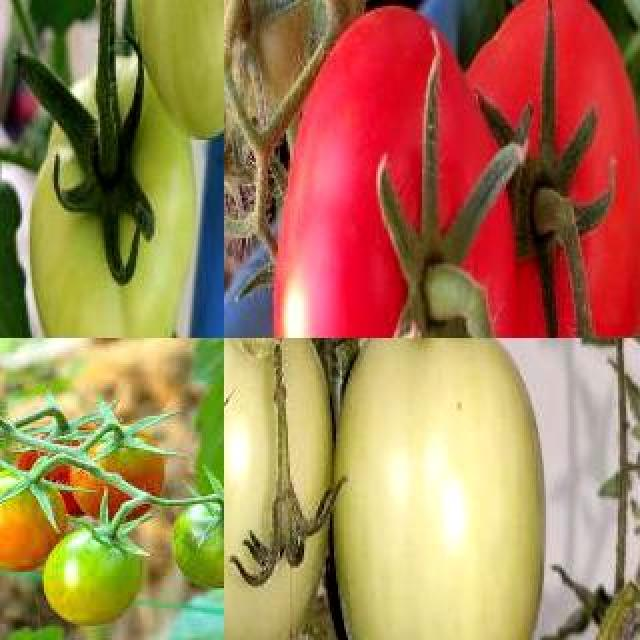Fresh_Tomato: (268, 0, 520, 338), (454, 0, 640, 338), (74, 416, 166, 520), (0, 340, 50, 480), (0, 466, 66, 570), (0, 386, 52, 516)
